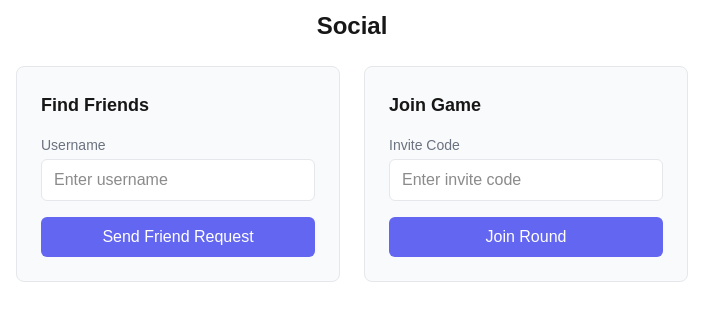
Test: SocialPage › sends friend request on valid username
Type "alice" into the field labelled "Username".
click(178, 180); type("alice")  # box [41,159,315,201]
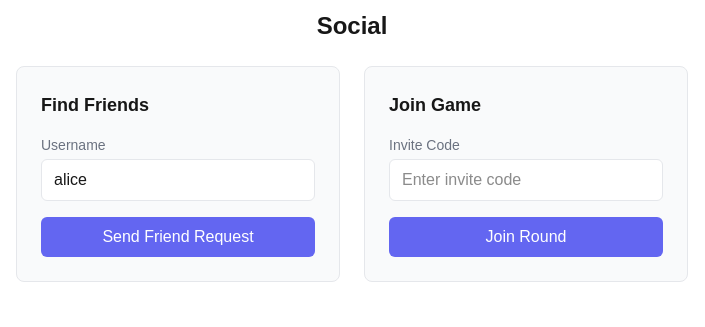
Click the button "Send Friend Request".
click(178, 237)  # box [41,217,315,257]
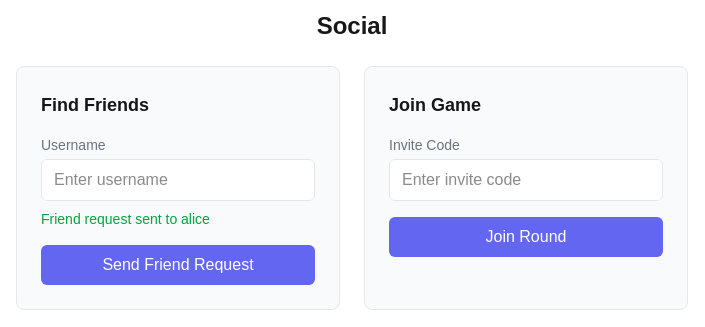
Result: the text "Friend request sent to alice" is shown at [41,211,210,227]
